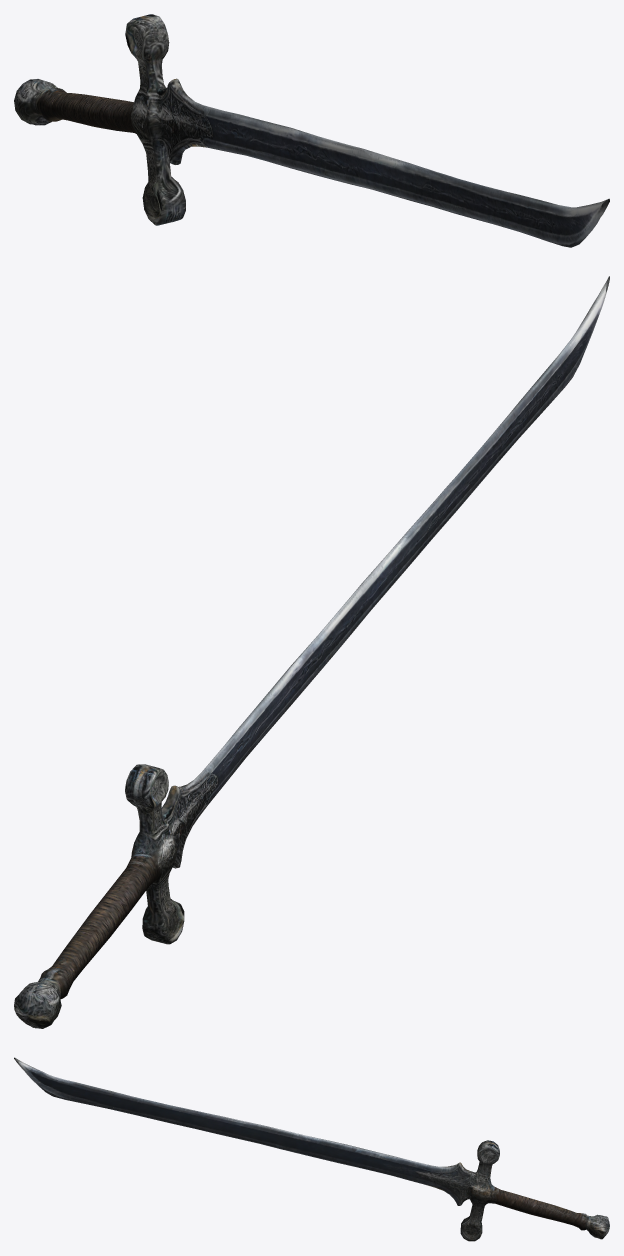
The model's file is Sword_LongSword.fbx.
3 renders of one model, top to bottom at view 1: azimuth 30°, elevation 25°; view 2: azimuth 150°, elevation 25°; view 3: azimuth 270°, elevation 25°, orthographic. The views are drawn at different scales.
Parts seen in each view (by area): view 1: LongSword_Mesh; view 2: LongSword_Mesh; view 3: LongSword_Mesh.
Part boxes in pixels (x1,y1,x2,y2): LongSword_Mesh: (14, 14, 609, 247); LongSword_Mesh: (14, 276, 609, 1028); LongSword_Mesh: (14, 1057, 609, 1241).
Size of the model in its own units: 7.19 by 182 by 60.53.
1 material, 1 textured.
